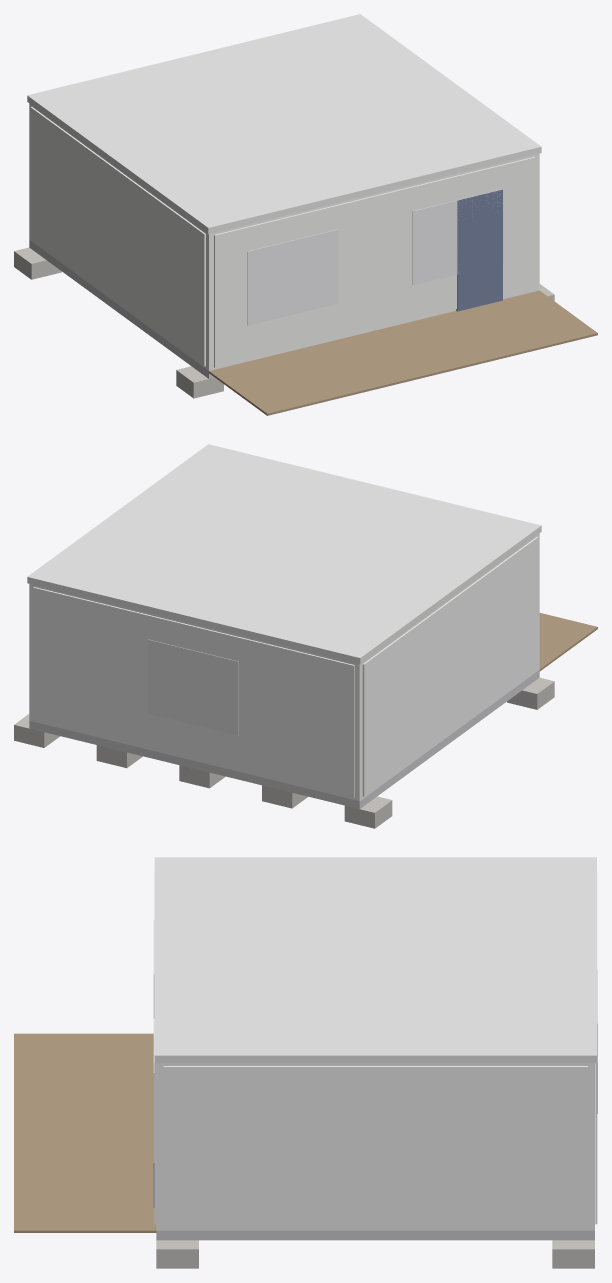
File: Studio-20-Premium+TerraceDeck-LOD1.glb
3 renders of one model, top to bottom at view 1: azimuth 30°, elevation 25°; view 2: azimuth 150°, elevation 25°; view 3: azimuth 270°, elevation 25°, orthographic. The views are drawn at different scales.
Visible parts, largest first — view 1: RoofMain, ExteriorPanelsPremium, TerraceDeck, WindowsLargeUpgrade, EntryDoor, ExteriorShell, FoundationBlocks, BaseFrame; view 2: RoofMain, ExteriorPanelsPremium, WindowsLargeUpgrade, FoundationBlocks, ExteriorShell, BaseFrame, TerraceDeck; view 3: RoofMain, ExteriorPanelsPremium, TerraceDeck, ExteriorShell, BaseFrame, FoundationBlocks, WindowsLargeUpgrade.
Boxes of the visible parts, box(x1,y1,x2,y2) form: RoofMain: box(27, 14, 541, 234); ExteriorPanelsPremium: box(30, 106, 535, 367); TerraceDeck: box(209, 290, 597, 415); WindowsLargeUpgrade: box(247, 189, 503, 325); EntryDoor: box(456, 189, 502, 311); ExteriorShell: box(29, 103, 539, 370); FoundationBlocks: box(14, 247, 554, 398); BaseFrame: box(29, 240, 214, 378); RoofMain: box(27, 444, 541, 664); ExteriorPanelsPremium: box(33, 537, 538, 797); WindowsLargeUpgrade: box(148, 639, 238, 735); FoundationBlocks: box(14, 677, 554, 828); ExteriorShell: box(29, 533, 539, 801); BaseFrame: box(29, 670, 539, 808); TerraceDeck: box(539, 613, 597, 671); RoofMain: box(154, 857, 596, 1063); ExteriorPanelsPremium: box(154, 872, 597, 1228); TerraceDeck: box(14, 1033, 156, 1232); ExteriorShell: box(156, 1063, 594, 1230); BaseFrame: box(156, 1230, 594, 1240); FoundationBlocks: box(156, 1240, 594, 1268); WindowsLargeUpgrade: box(153, 920, 597, 1162).
Size of the model in its own units: 7.14 by 3.17 by 8.2.
